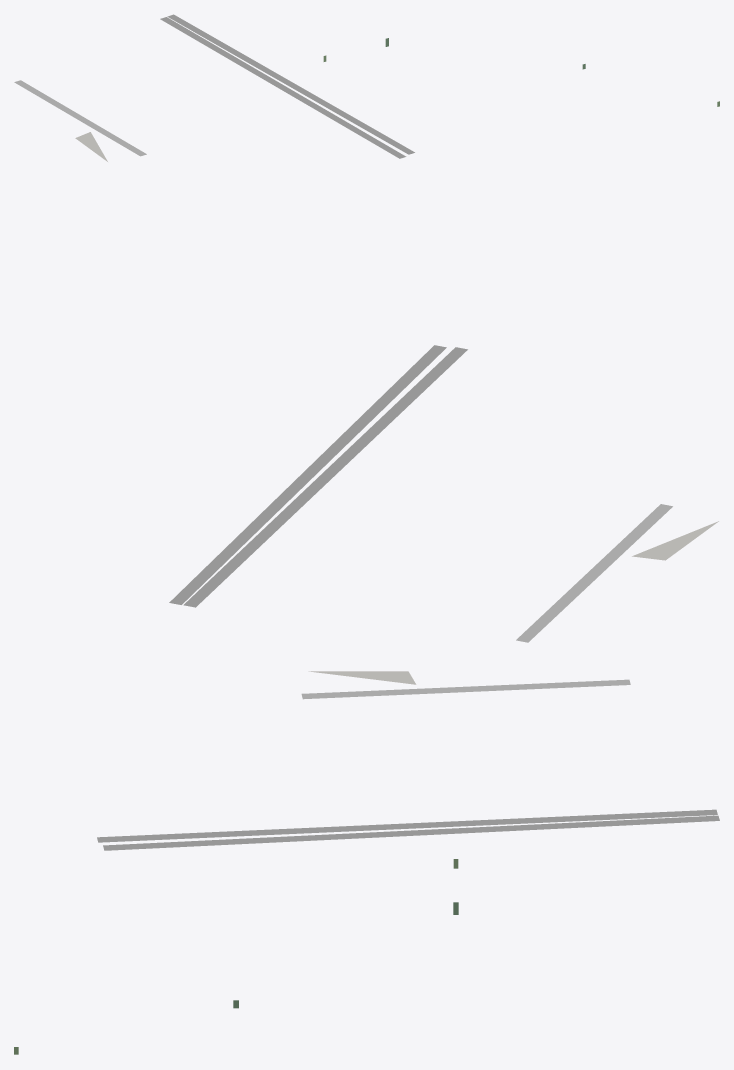
3 views of the same model, one above another, from view 1: azimuth 30°, elevation 25°; view 2: azimuth 150°, elevation 25°; view 3: azimuth 270°, elevation 25° (orthographic). The views are drawn at different scales.
Size of the model in its own units: 496 by 8.02 by 385.
